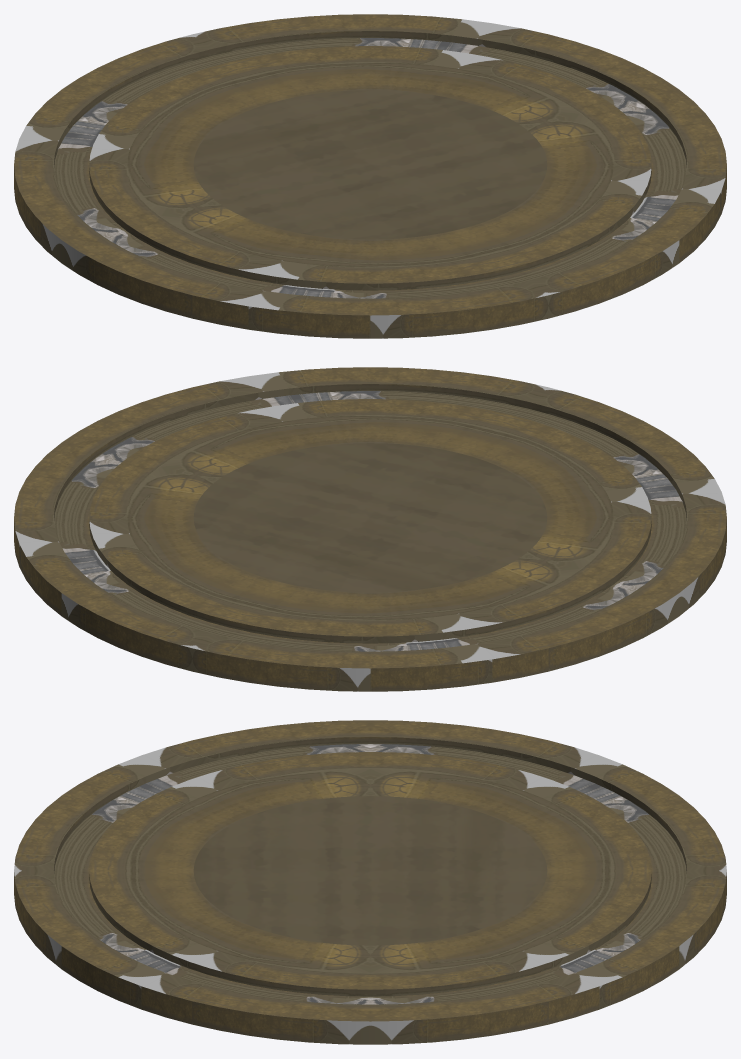
Rendered from Ground_Altar 1.fbx.
The picture shows the model from 3 angles, top to bottom: view 1: azimuth 30°, elevation 25°; view 2: azimuth 150°, elevation 25°; view 3: azimuth 270°, elevation 25°; orthographic projection.
Parts seen in each view (by area): view 1: Cylinder009; view 2: Cylinder009; view 3: Cylinder009.
Part boxes in pixels (left/top/right/bottom): Cylinder009: left=14, top=14, right=726, bottom=338; Cylinder009: left=14, top=367, right=726, bottom=691; Cylinder009: left=14, top=720, right=726, bottom=1044.
Bounding box in the file's own units: 1766 × 63.69 × 1766.
